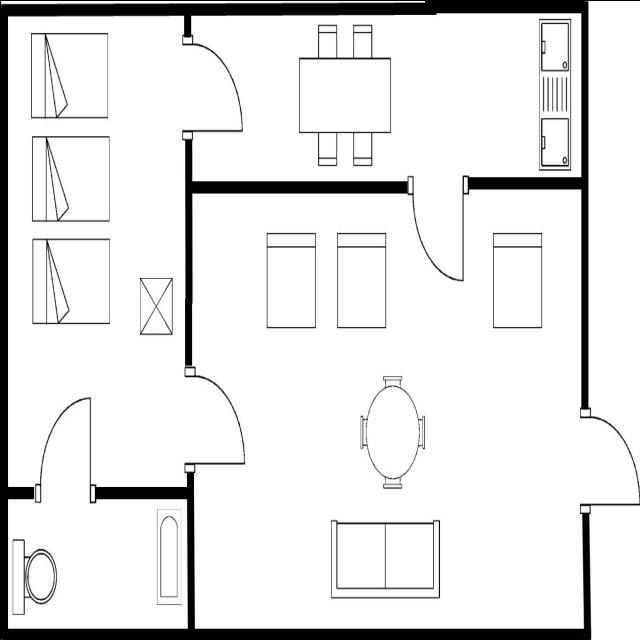bed: (28, 232, 114, 332), (28, 26, 112, 123), (29, 132, 113, 228)
coffee_table: (136, 272, 176, 342)
dining_table: (294, 20, 394, 174)
large_sink: (9, 534, 58, 618)
large_sofa: (326, 514, 444, 606)
round_table: (356, 369, 428, 493)
small_sofa: (487, 226, 545, 334), (262, 226, 318, 336), (334, 225, 389, 334)
tub: (151, 504, 185, 612)
twin_sink: (535, 12, 574, 176)
